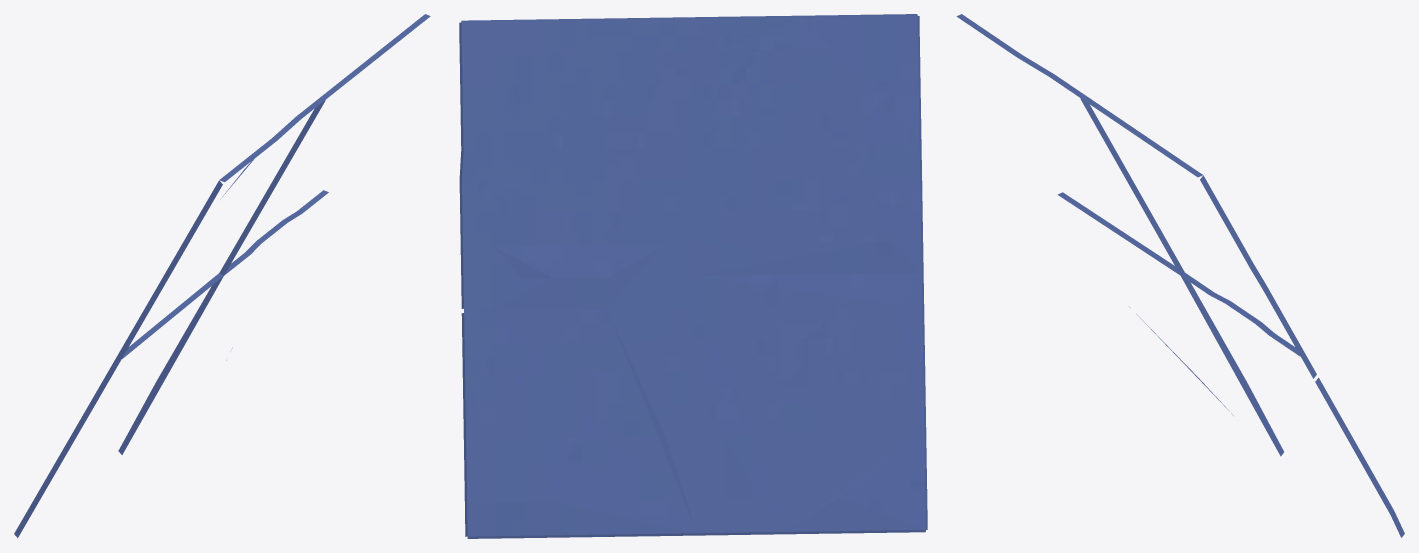
3 renders of one model, left to right at view 1: azimuth 30°, elevation 25°; view 2: azimuth 150°, elevation 25°; view 3: azimuth 270°, elevation 25°, orthographic. The views are drawn at different scales.
Size of the model in its own units: 78747 by 70117 by 68749.
Materials: 1 (1 with a texture image).
